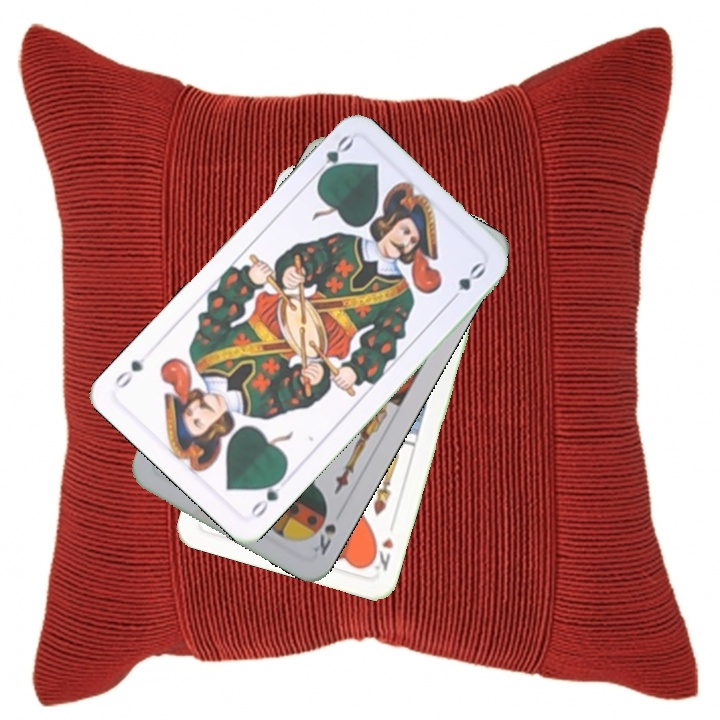GO: (309, 131, 357, 184), (244, 470, 288, 521)
HK: (365, 534, 396, 574)
SK: (308, 519, 339, 558)
